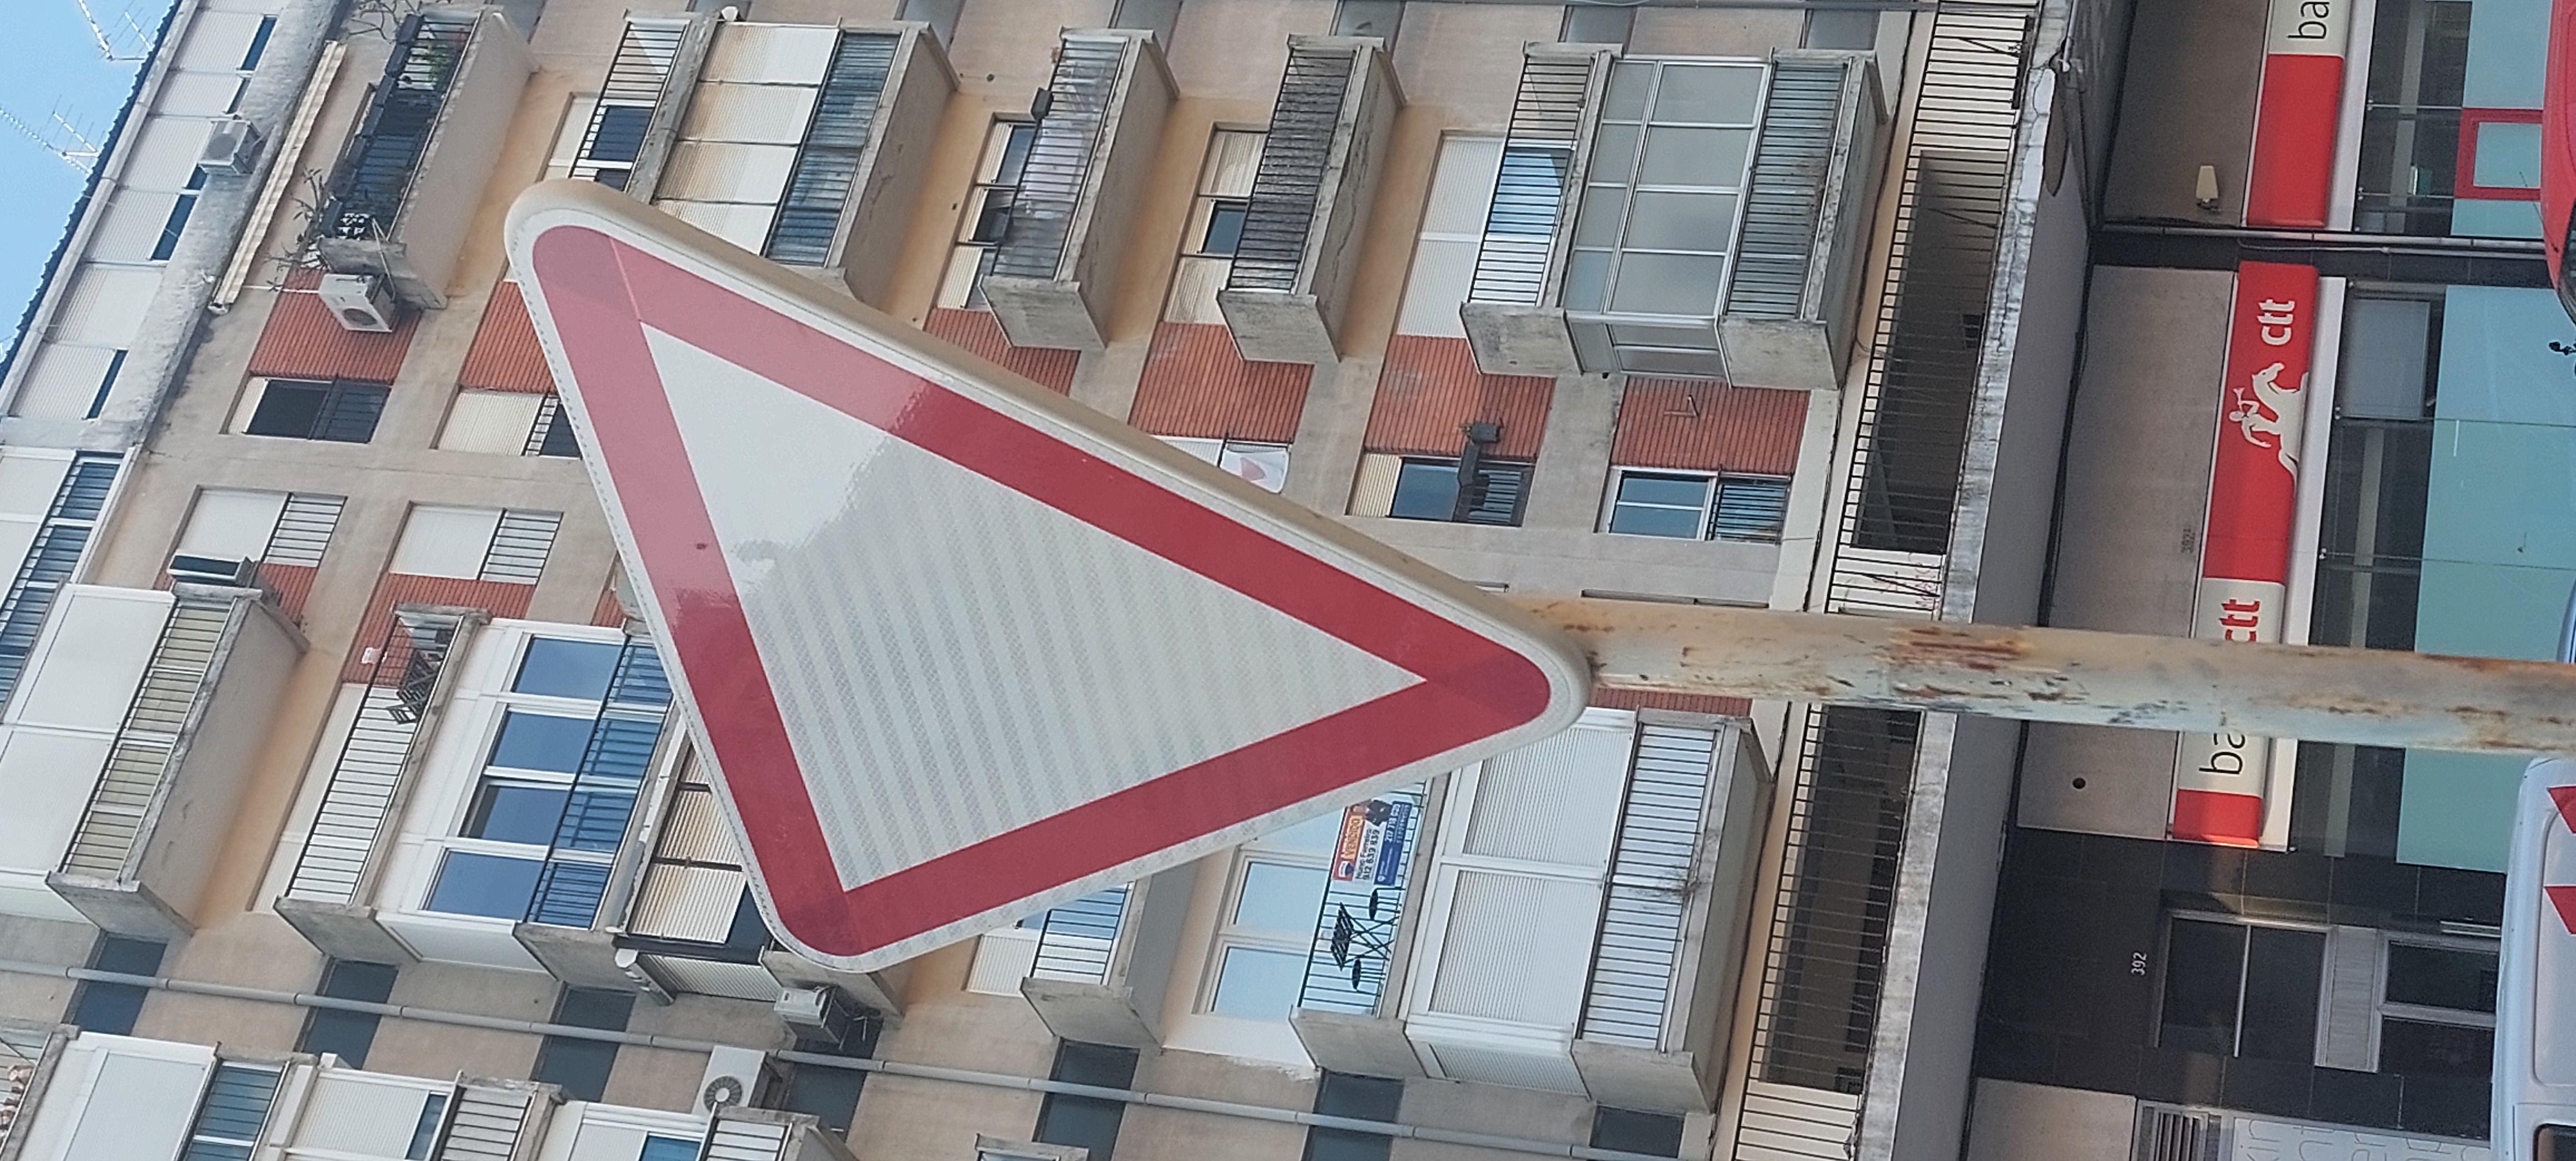cedencia de passagem: (0, 120, 2254, 731)
